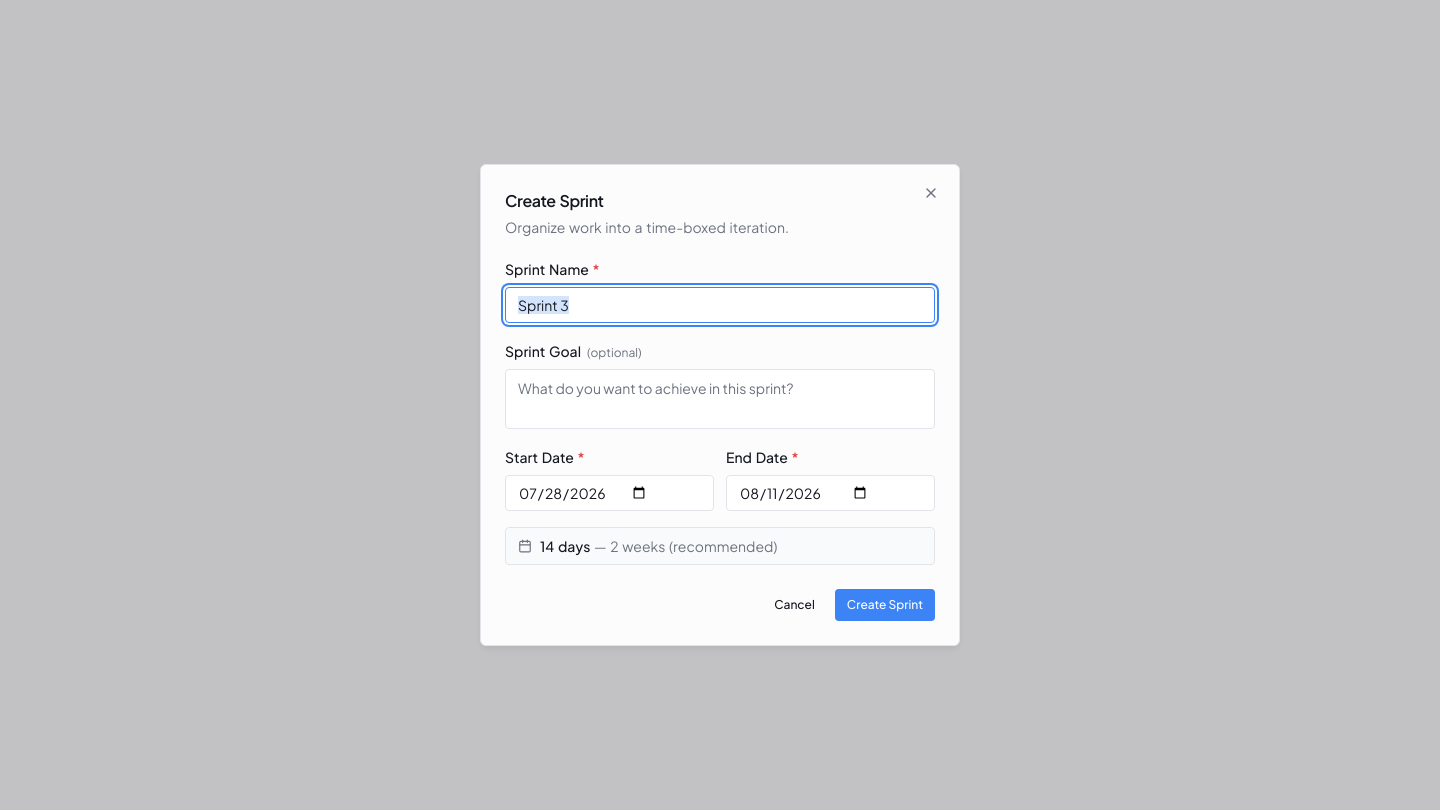
Test: CreateSprintModal › shows duration error when sprint is longer than 90 days
The image size is (1440, 810).
Step 1. Clear the date field labelled "Start Date *" → point(610, 493), box [505,475,714,511]
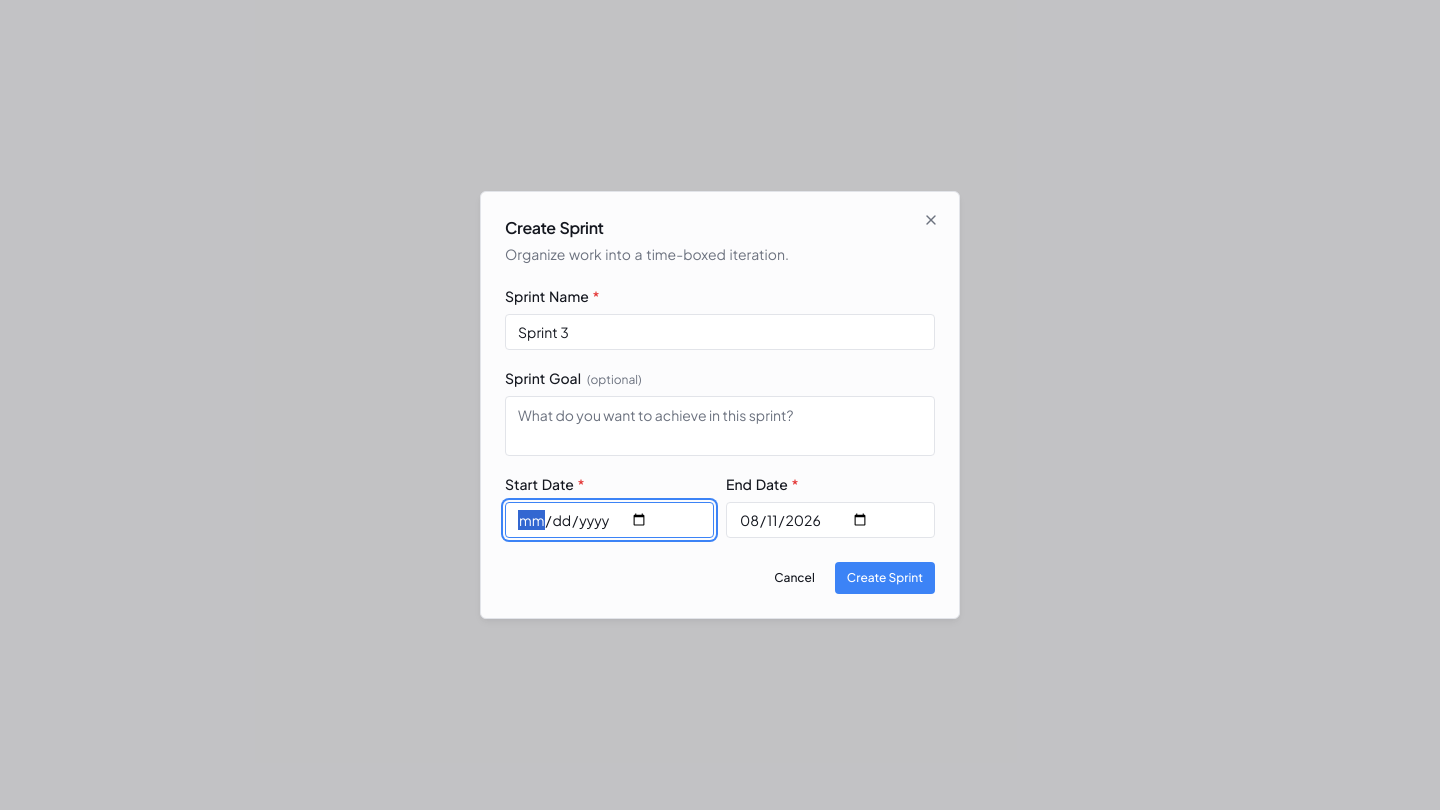
Step 2. Type "2026-01-01" into the date field labelled "Start Date *" → point(610, 520), box [505,502,714,538]
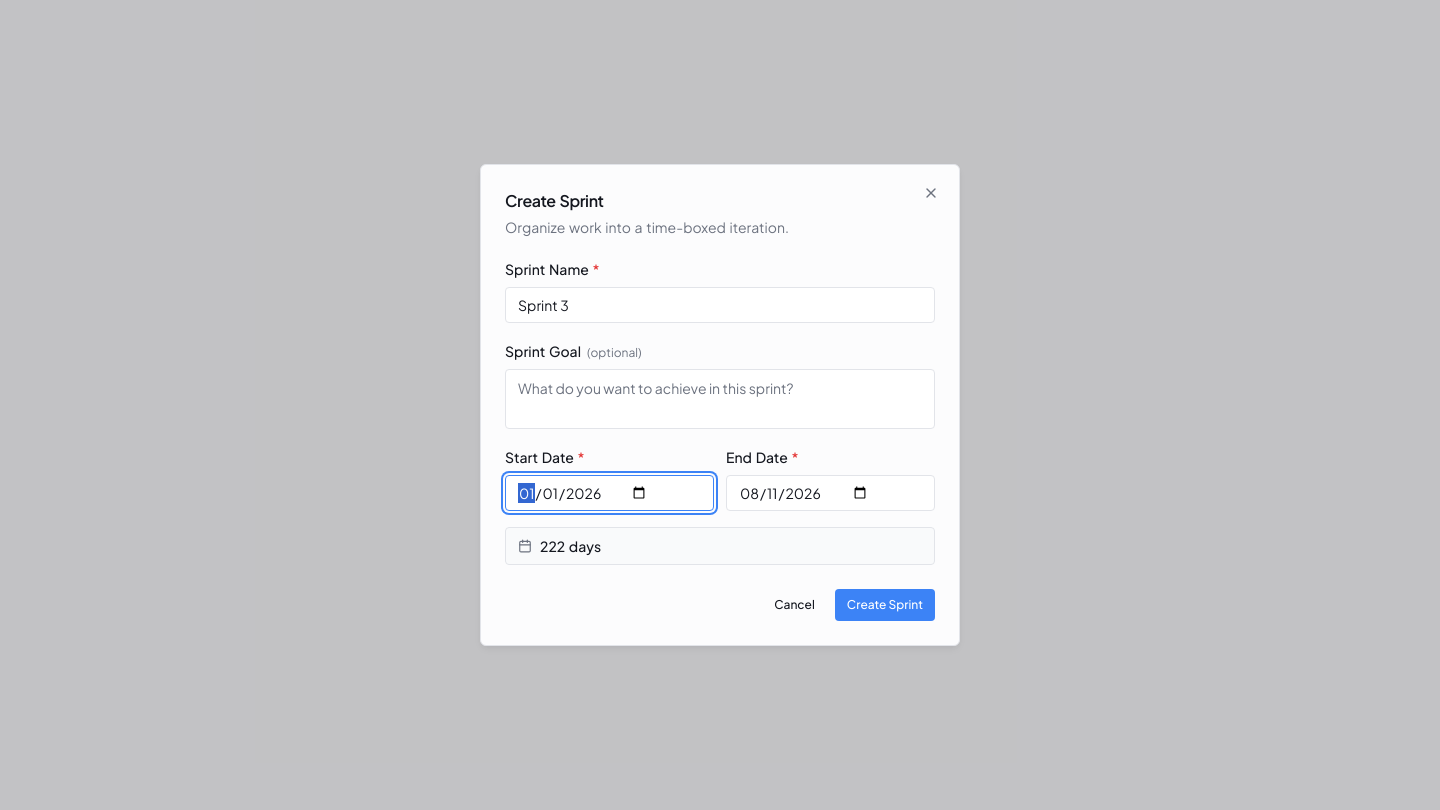
Step 3. Clear the date field labelled "End Date *" → point(830, 493), box [726,475,935,511]
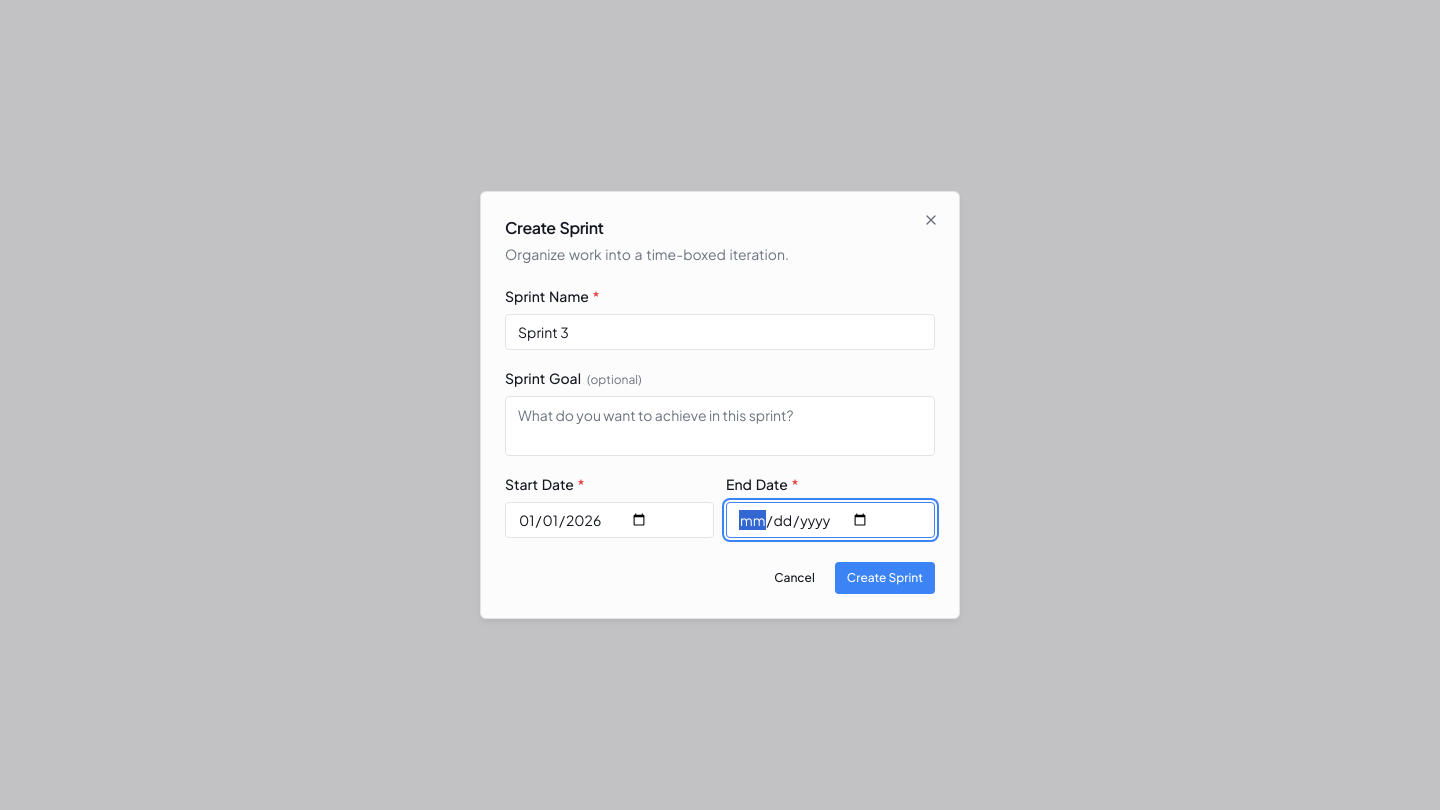
Step 4. Type "2026-12-01" into the date field labelled "End Date *" → point(830, 520), box [726,502,935,538]
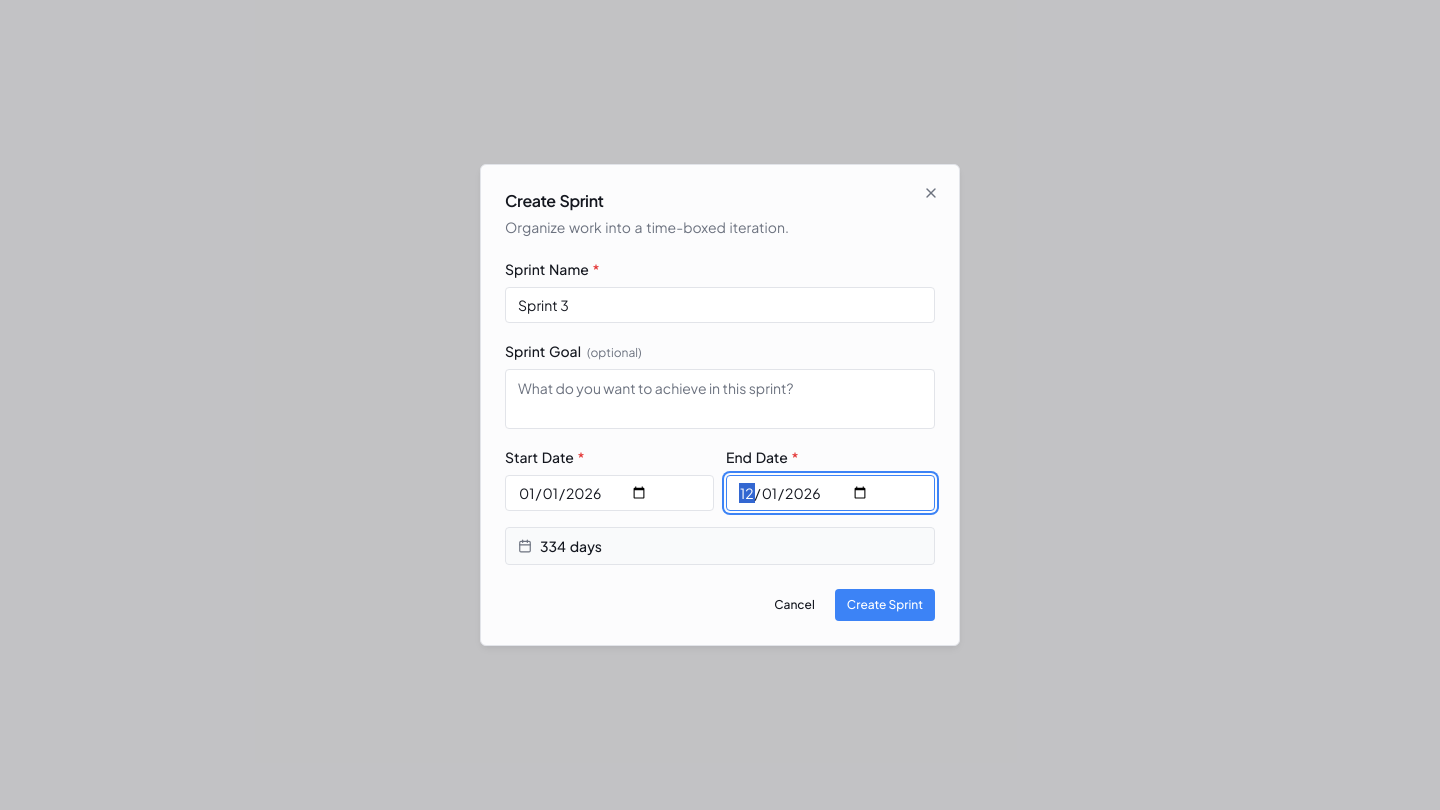
Step 5. Click the button "Create Sprint" → point(885, 605), box [835,589,935,621]
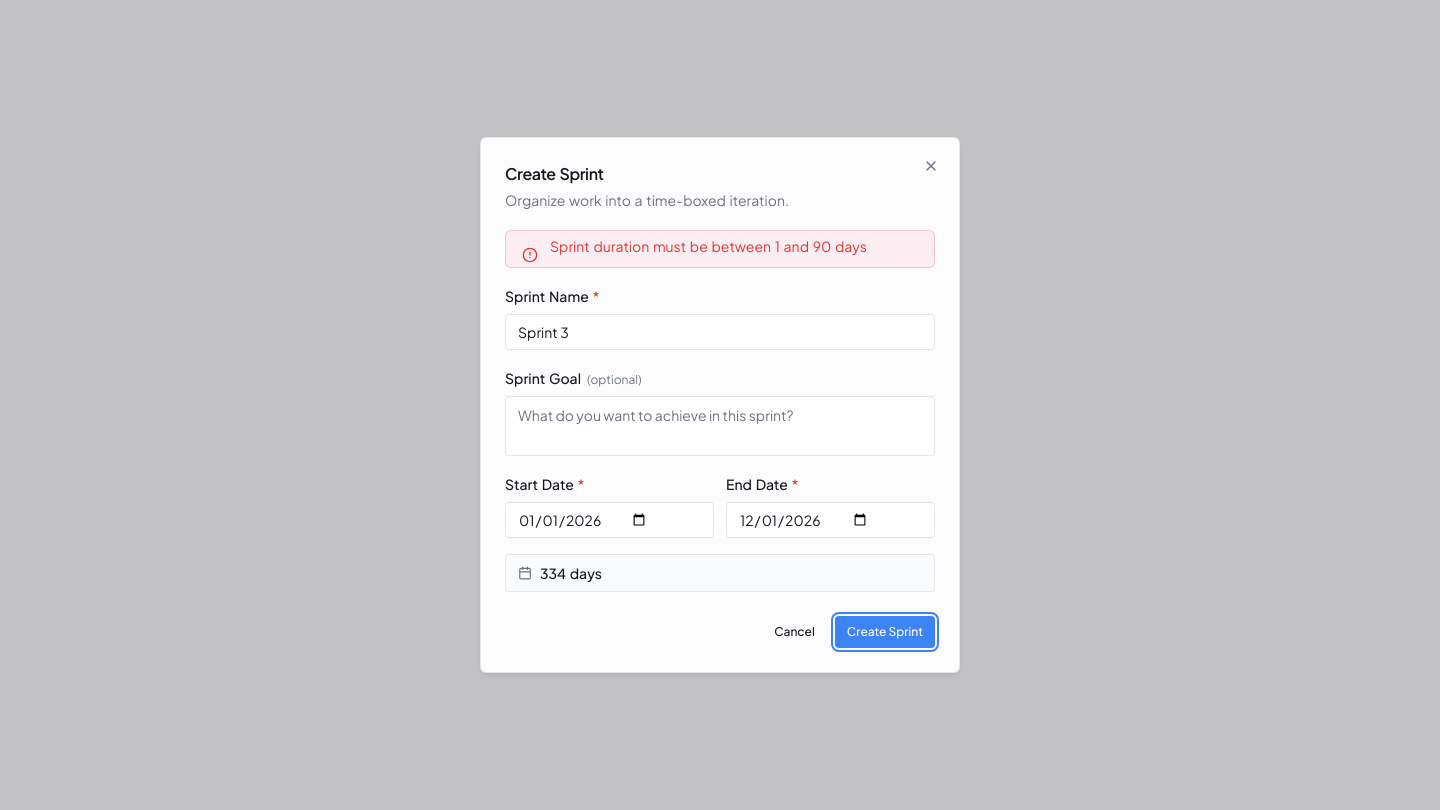
Expected: the text "Sprint duration must be between 1 and 90 days" is shown, [550,237,867,255]
